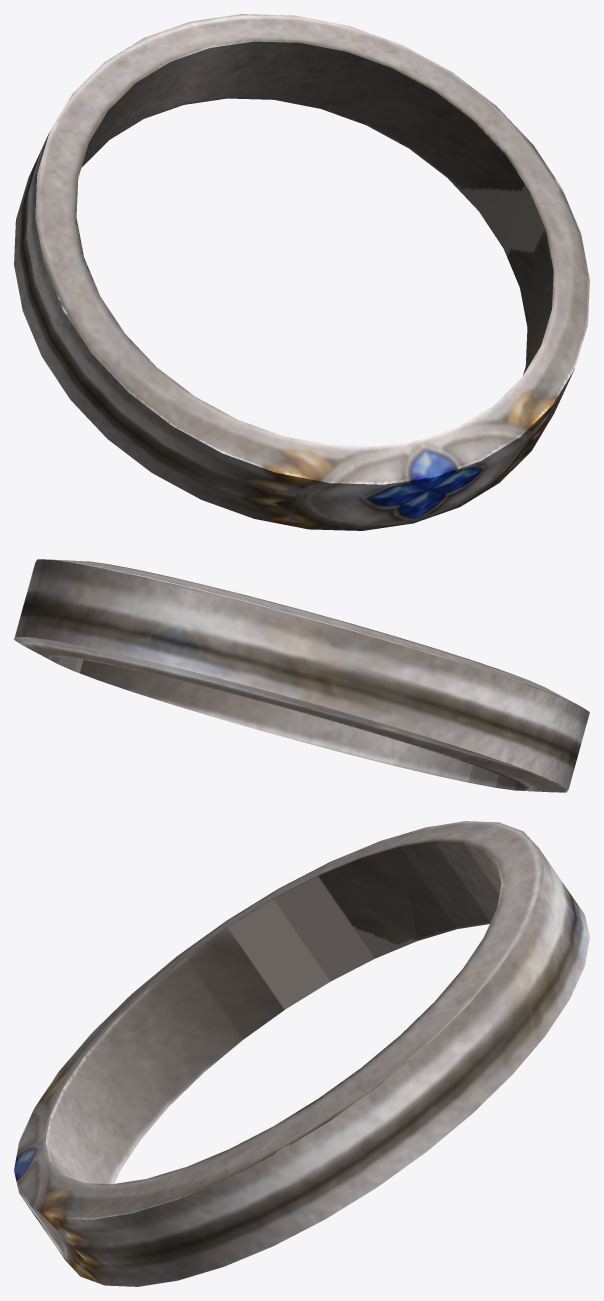
The model's file is item_mm9_10210.glb.
3 renders of one model, top to bottom at view 1: azimuth 30°, elevation 25°; view 2: azimuth 150°, elevation 25°; view 3: azimuth 270°, elevation 25°, orthographic. The views are drawn at different scales.
Parts seen in each view (by area): view 1: d10210; view 2: d10210; view 3: d10210.
Part boxes in pixels (left/top/right/bottom): d10210: left=14, top=14, right=589, bottom=530; d10210: left=14, top=559, right=589, bottom=792; d10210: left=14, top=821, right=589, bottom=1286.
Size of the model in its own units: 28.8 by 18.68 by 26.56.
1 material, 1 textured.
